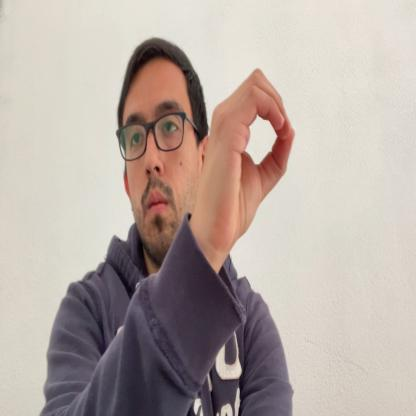O: (197, 65, 296, 256)
